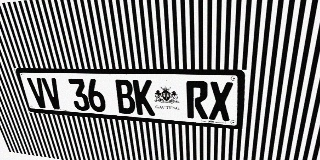3: (68, 78, 91, 111)
6: (84, 79, 107, 112)
B: (113, 79, 136, 114)
K: (132, 80, 155, 116)
R: (186, 81, 208, 119)
V: (26, 77, 49, 108), (41, 78, 64, 109)
X: (209, 81, 233, 121)
